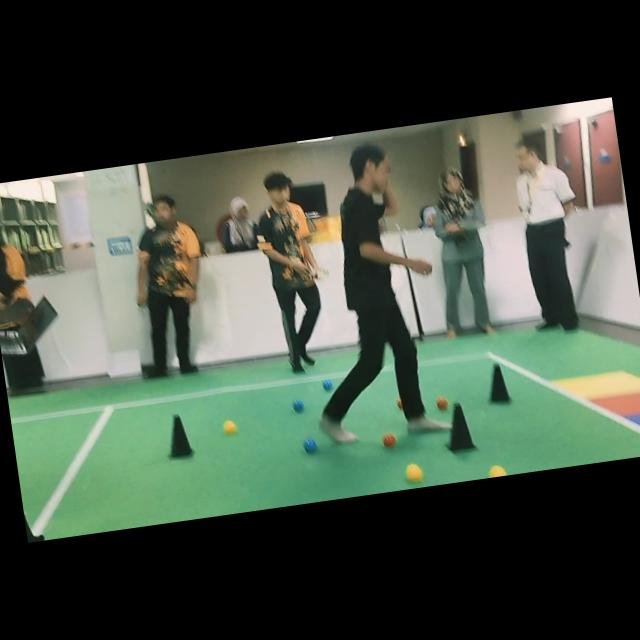ball: (406, 463, 424, 482), (489, 465, 507, 478), (382, 433, 397, 448), (223, 420, 238, 435), (303, 437, 317, 453), (436, 396, 449, 410), (293, 400, 305, 413), (322, 379, 332, 391), (397, 397, 403, 410)
goal: (553, 371, 640, 400), (594, 393, 640, 416), (627, 414, 640, 425)
